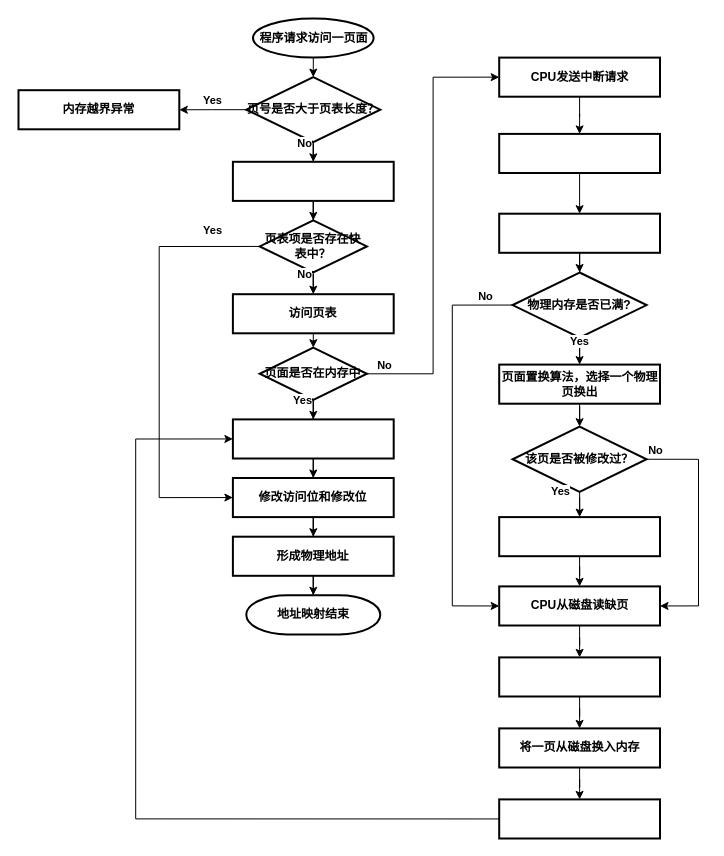
Image size: 724x856. Some labels were removed from this diagram. The shapes that lost their labels are listed below. From the top down, each one's centre as x and y in pixels, then its label:
At point 579,153: "保存CPU现场".
At point 312,180: "CPU检索TLB".
At point 579,232: "从磁盘中找到缺页的位置".
At point 312,438: "更新快表TLB".
At point 579,536: "将该页写入磁盘".
At point 579,676: "启动I/O硬件".
At point 579,818: "修改页表的状态位".
